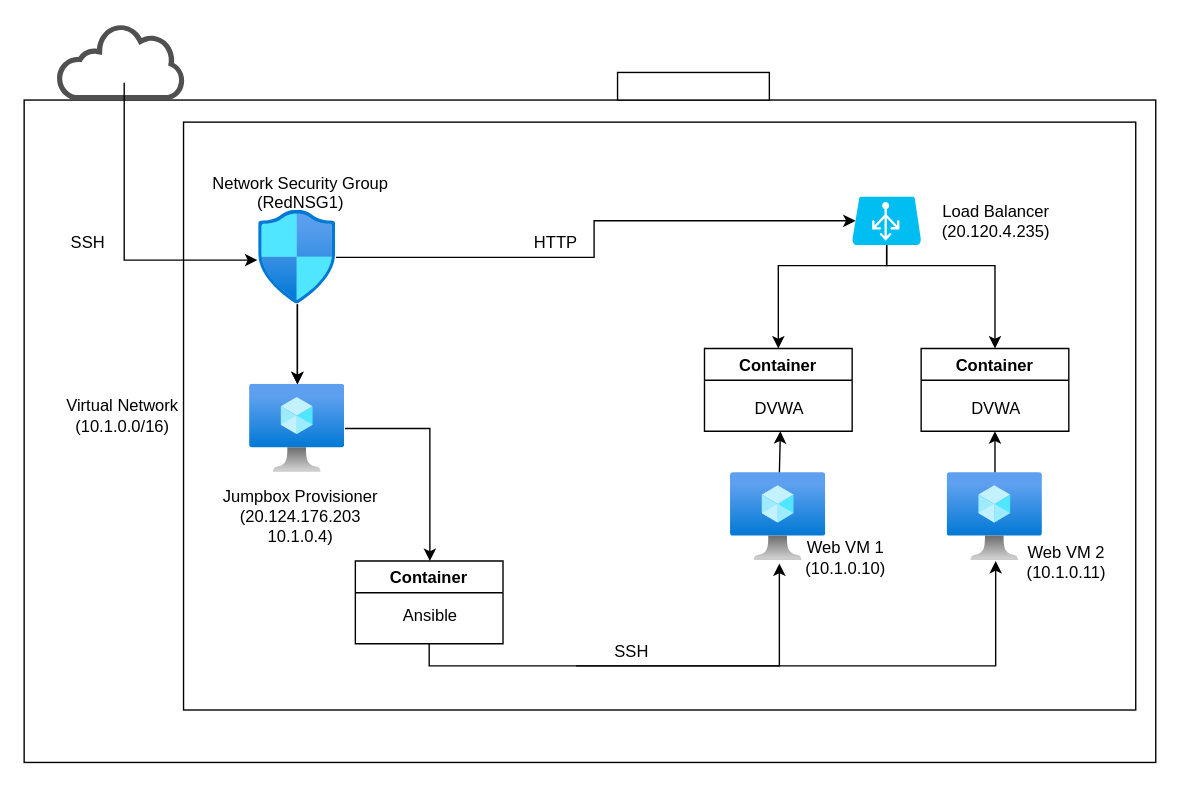
Some shapes in this 1180 by 787 pixel diagram are drawn without their labels. Here are the shapes that lost their labels. From the top down, the centre of each, then its label:
(121,61): Internet
(692,85): Resource Group 1
